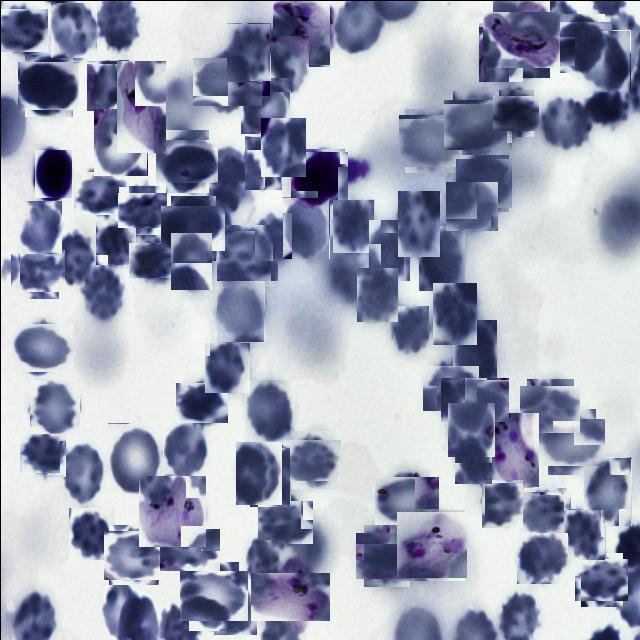leukocyte: (291, 150, 346, 204), (34, 148, 72, 197)
red blood cell: (107, 422, 163, 496), (93, 107, 147, 175), (447, 94, 507, 154), (197, 51, 256, 110), (184, 566, 242, 626), (574, 29, 630, 91), (542, 412, 600, 470), (401, 111, 459, 169), (583, 456, 631, 525), (378, 472, 434, 528), (219, 228, 275, 284), (446, 372, 502, 428), (452, 319, 496, 390), (244, 379, 294, 441), (13, 319, 68, 375), (165, 200, 220, 255), (106, 526, 160, 582), (20, 58, 76, 112), (418, 225, 464, 290), (216, 279, 264, 341), (160, 420, 209, 480), (522, 382, 576, 436), (359, 528, 413, 582), (282, 196, 329, 258), (540, 92, 590, 150), (235, 441, 281, 504), (59, 440, 104, 504), (27, 379, 80, 432), (160, 134, 213, 187), (457, 156, 510, 209), (240, 78, 290, 134), (397, 190, 439, 256), (432, 282, 476, 344), (556, 16, 608, 68), (478, 21, 523, 81), (260, 117, 305, 176), (163, 524, 214, 576), (424, 362, 476, 413), (368, 218, 410, 280), (516, 532, 567, 583), (446, 180, 497, 231), (447, 402, 494, 457), (79, 264, 125, 320), (226, 22, 270, 80), (249, 444, 290, 506), (50, 2, 96, 57), (286, 434, 336, 484), (259, 496, 309, 546), (170, 232, 212, 290), (213, 578, 256, 634), (76, 168, 124, 218), (68, 507, 114, 559), (204, 341, 250, 392), (17, 200, 61, 253), (577, 555, 625, 603), (332, 198, 374, 252), (520, 489, 568, 536), (177, 378, 224, 426), (13, 247, 61, 294), (356, 267, 397, 321), (0, 5, 46, 53), (269, 35, 308, 91), (20, 428, 67, 474), (86, 59, 128, 110), (563, 508, 605, 559), (241, 539, 281, 592), (54, 228, 92, 281), (95, 219, 136, 268), (244, 135, 281, 189), (480, 481, 524, 525), (454, 434, 492, 484), (254, 212, 291, 260), (392, 305, 428, 354), (120, 188, 162, 230), (132, 238, 174, 280), (495, 92, 536, 133)
ring: (138, 474, 206, 546)
trophozoite: (116, 59, 166, 152), (397, 511, 465, 578), (487, 5, 554, 72), (258, 564, 322, 628), (269, 2, 332, 64), (490, 412, 538, 486)
